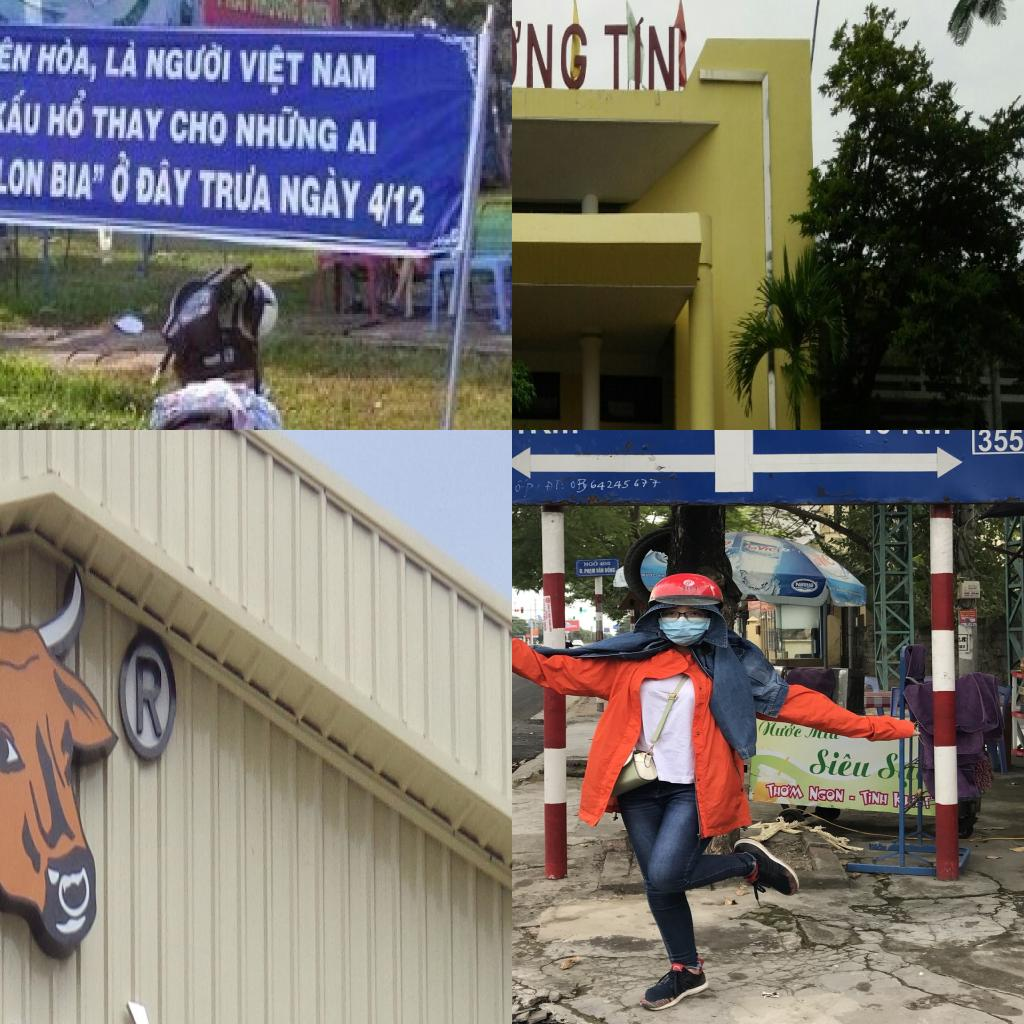text: (512, 2, 590, 96), (232, 101, 348, 159), (276, 162, 370, 226), (194, 157, 278, 223), (142, 39, 238, 93), (54, 981, 173, 1024), (238, 40, 310, 104), (132, 152, 196, 216), (310, 45, 382, 98), (362, 176, 430, 232), (90, 100, 168, 148), (32, 40, 104, 88), (166, 101, 234, 151), (46, 154, 108, 207), (44, 87, 92, 146), (0, 87, 48, 143), (0, 148, 48, 202), (805, 746, 877, 782), (135, 652, 163, 741), (568, 474, 666, 496), (102, 36, 144, 84), (344, 111, 382, 162), (106, 149, 138, 207), (0, 33, 40, 79), (248, 0, 302, 26), (972, 430, 1024, 452), (757, 718, 807, 740), (760, 780, 807, 801), (855, 430, 957, 439), (806, 783, 846, 805), (805, 547, 839, 569), (512, 474, 541, 498), (512, 430, 584, 439), (216, 0, 250, 18), (857, 788, 889, 807), (744, 540, 779, 554), (544, 475, 565, 495), (641, 570, 657, 578), (680, 586, 700, 592), (795, 582, 815, 588), (582, 560, 598, 567), (848, 793, 858, 802), (605, 566, 616, 574), (584, 568, 596, 574), (596, 566, 604, 574), (600, 561, 612, 566), (958, 636, 968, 642), (657, 573, 667, 578), (829, 586, 837, 592), (578, 568, 584, 574)
